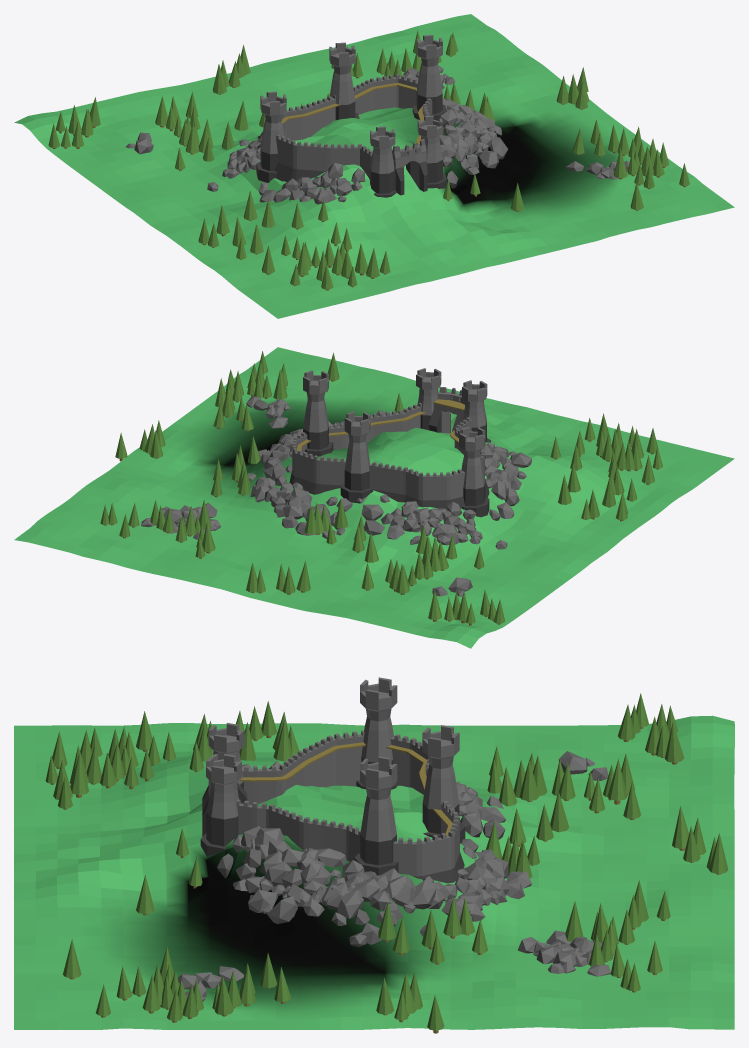
Rendered from LowPolyCastle.fbx.
3 views of the same model, one above another, from view 1: azimuth 30°, elevation 25°; view 2: azimuth 150°, elevation 25°; view 3: azimuth 270°, elevation 25° (orthographic). The views are drawn at different scales.
Visible parts, largest first — view 1: Terrain, MainWall, Tower3, Tower1, Tower2, TowerPortal2, Portal, TowerPortal1; view 2: Terrain, MainWall, Tower2, Tower1, Tower3, Portal, TowerPortal2, TowerPortal1; view 3: Terrain, MainWall, Tower3, Tower2, TowerPortal1, Tower1, TowerPortal2.
Boxes of the visible parts, x1,y1,x2,y2 form: Terrain: [14, 14, 734, 318]; MainWall: [274, 74, 432, 181]; Tower3: [412, 35, 446, 120]; Tower1: [256, 91, 286, 182]; Tower2: [329, 42, 359, 119]; TowerPortal2: [370, 126, 396, 197]; Portal: [392, 139, 427, 195]; TowerPortal1: [417, 115, 446, 188]; Terrain: [14, 347, 734, 648]; MainWall: [289, 403, 489, 510]; Tower2: [340, 411, 373, 502]; Tower1: [459, 427, 489, 517]; Tower3: [303, 370, 333, 456]; Portal: [428, 387, 465, 433]; TowerPortal2: [462, 380, 490, 442]; TowerPortal1: [416, 368, 441, 429]; Terrain: [14, 715, 734, 1029]; MainWall: [236, 730, 464, 883]; Tower3: [354, 756, 398, 875]; Tower2: [422, 725, 465, 843]; TowerPortal1: [200, 754, 241, 856]; Tower1: [356, 677, 397, 789]; TowerPortal2: [208, 723, 244, 789].
Size of the model in its own units: 2198 by 571 by 2163.
